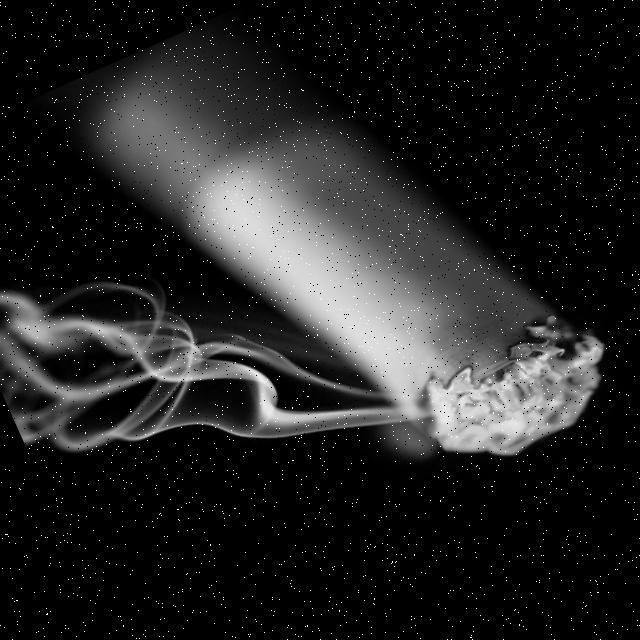cigarette: (71, 0, 631, 551)
